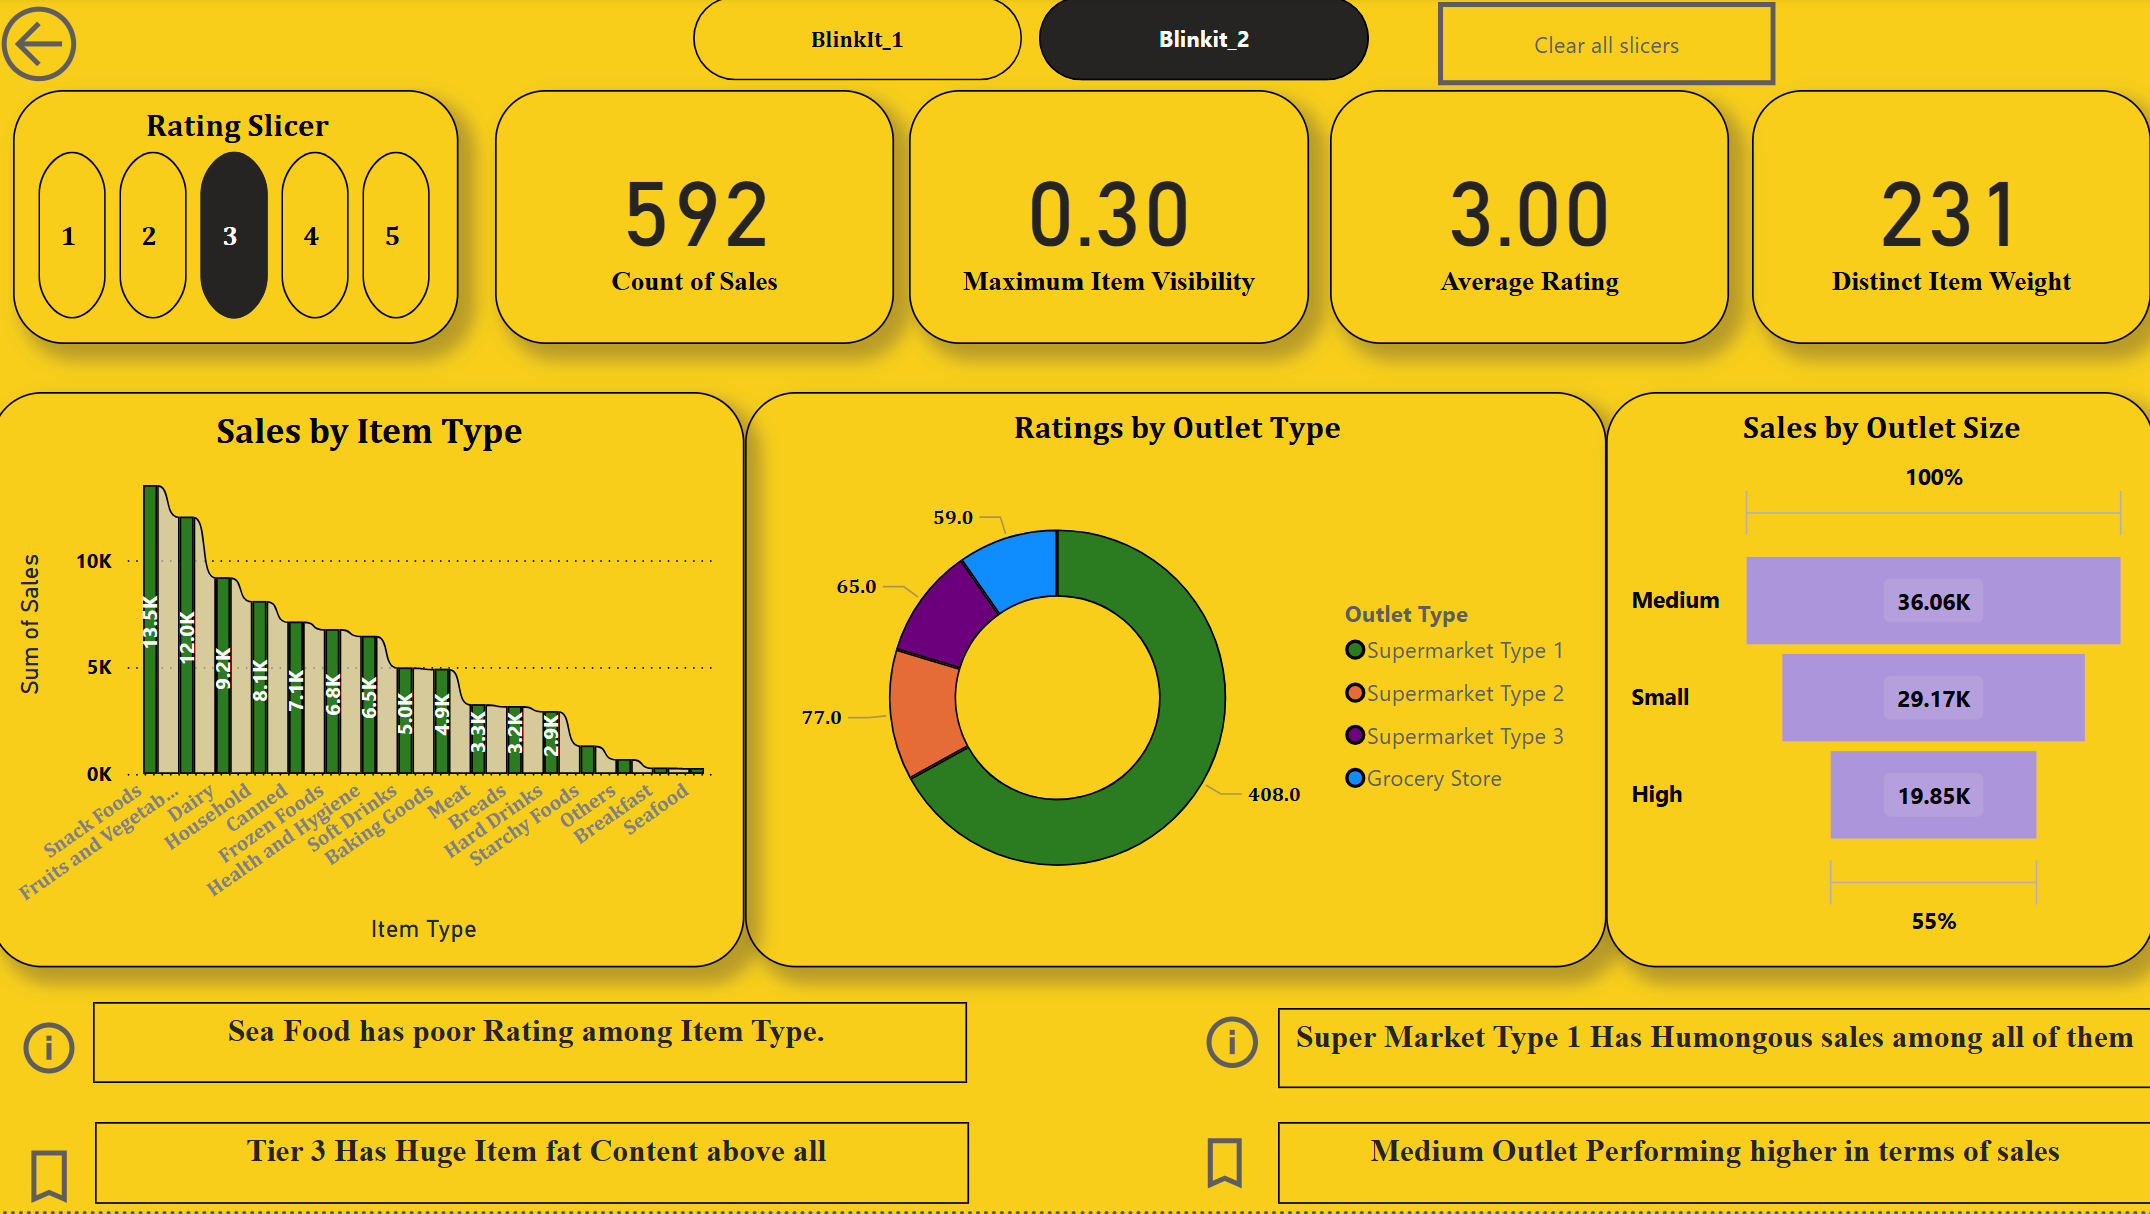

This screenshot's page, from the dashboard's own definition file:
{"tool":"powerbi","page":{"name":"Blinkit_2","canvas":[1280,720],"ordinal":1},"visuals":[{"type":"advancedSlicerVisual","fields":{"Values":["BlinkIT Grocery Data.Rating"]},"box":[13.2,56.1,264.2,150.6],"z":0},{"type":"card","fields":{"Values":["Count(BlinkIT Grocery Data.Sales)"]},"box":[298.5,56.1,236.4,150.6],"z":4000},{"type":"card","fields":{"Values":["BlinkIT Grocery Data.Max Visibility"]},"box":[544.2,56.1,236.4,150.6],"z":5000},{"type":"card","fields":{"Values":["Count(BlinkIT Grocery Data.Item Weight)"]},"box":[1043.6,56.1,236.4,150.6],"z":6000},{"type":"card","fields":{"Values":["Avg(BlinkIT Grocery Data.Rating)"]},"box":[792.6,56.1,236.4,150.6],"z":7000},{"type":"donutChart","title":" Ratings by Outlet Type","fields":{"Y":["CountNonNull(BlinkIT Grocery Data.Rating)"],"Category":["BlinkIT Grocery Data.Outlet Type"]},"box":[446.5,235.1,509.9,340.8],"z":8000},{"type":"actionButton","box":[0,0,60.8,56.8],"z":9000},{"type":"ribbonChart","title":"Sales by Item Type","fields":{"Category":["BlinkIT Grocery Data.Item Type"],"Y":["Sum(BlinkIT Grocery Data.Sales)"]},"box":[0,235.1,446.5,340.8],"z":10000},{"type":"funnel","title":"Sales by Outlet Size","fields":{"Y":["Sum(BlinkIT Grocery Data.Sales)"],"Category":["BlinkIT Grocery Data.Outlet Size"]},"box":[956.4,235.1,325,340.8],"z":11000},{"type":"pageNavigator","box":[416.1,0,400.2,50.2],"z":12000},{"type":"actionButton","box":[714.7,599.4,47.1,40.6],"z":13000},{"type":"textbox","box":[762.1,599.7,517.9,47.4],"z":14000},{"type":"actionButton","box":[14.6,679,40.6,40.6],"z":15000},{"type":"textbox","box":[61.7,667.6,518.2,48.7],"z":16000},{"type":"actionButton","box":[14.2,603.3,40.3,40.3],"z":17000},{"type":"textbox","box":[60.3,596.1,518,48],"z":18000},{"type":"actionButton","box":[711.5,672.5,50.4,39],"z":19000},{"type":"textbox","box":[761.8,667.6,518.2,48.7],"z":20000},{"type":"actionButton","box":[856.5,4.1,200.1,49.3],"z":21000}]}

Visuals, with their boxes in screenshot pixels (x1, y1, x2, y2), scaled from the page's 1280x720 canvas onto the 2150x1214 screenshot:
advancedSlicerVisual - BlinkIT Grocery Data.Rating: region(22, 95, 466, 349)
card - Count(BlinkIT Grocery Data.Sales): region(501, 95, 898, 349)
card - BlinkIT Grocery Data.Max Visibility: region(914, 95, 1311, 349)
card - Count(BlinkIT Grocery Data.Item Weight): region(1753, 95, 2149, 349)
card - Avg(BlinkIT Grocery Data.Rating): region(1331, 95, 1728, 349)
" Ratings by Outlet Type" donutChart: region(750, 396, 1606, 971)
actionButton: region(0, 0, 102, 96)
"Sales by Item Type" ribbonChart: region(0, 396, 750, 971)
"Sales by Outlet Size" funnel: region(1606, 396, 2149, 971)
pageNavigator: region(699, 0, 1371, 85)
actionButton: region(1200, 1011, 1280, 1079)
textbox: region(1280, 1011, 2149, 1091)
actionButton: region(25, 1145, 93, 1213)
textbox: region(104, 1126, 974, 1208)
actionButton: region(24, 1017, 92, 1085)
textbox: region(101, 1005, 971, 1086)
actionButton: region(1195, 1134, 1280, 1200)
textbox: region(1280, 1126, 2149, 1208)
actionButton: region(1439, 7, 1775, 90)
